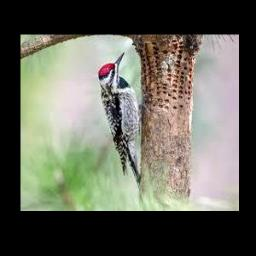Woodpecker: (99, 51, 143, 186)
